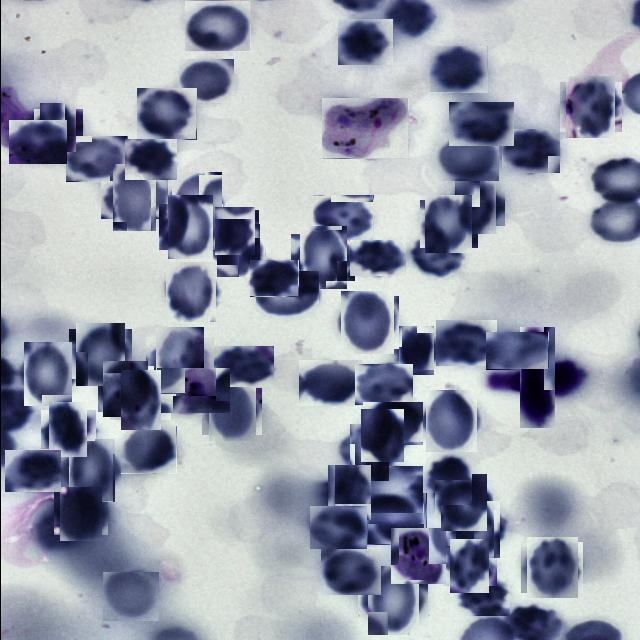leukocyte: (502, 342, 570, 412)
red blood cell: (362, 570, 422, 631), (184, 1, 250, 52), (337, 294, 395, 352), (150, 332, 208, 390), (422, 392, 480, 449), (364, 493, 426, 545), (19, 345, 75, 402), (71, 326, 128, 382), (162, 264, 218, 320), (523, 540, 579, 596), (562, 79, 618, 135), (294, 230, 350, 286), (168, 174, 224, 230), (106, 169, 162, 225), (136, 88, 196, 140), (162, 199, 218, 254), (434, 133, 498, 181), (64, 444, 118, 498), (360, 466, 422, 513), (298, 360, 361, 406), (255, 271, 318, 317), (320, 547, 380, 595), (312, 195, 373, 242), (205, 384, 258, 438), (448, 102, 513, 146), (65, 136, 127, 182), (435, 320, 496, 366), (101, 572, 158, 621), (429, 46, 487, 93), (451, 504, 503, 556), (437, 477, 489, 529), (422, 198, 474, 250), (120, 426, 176, 474), (362, 402, 423, 446), (501, 129, 560, 174), (210, 346, 273, 387), (8, 120, 66, 164), (100, 363, 150, 414), (337, 19, 392, 65), (450, 180, 500, 230), (114, 375, 164, 425), (309, 506, 366, 549), (324, 467, 373, 517), (484, 332, 548, 370), (178, 59, 233, 103), (354, 364, 412, 405), (4, 450, 60, 492), (356, 412, 406, 459), (56, 490, 104, 538), (344, 428, 392, 476), (213, 227, 261, 274), (408, 236, 463, 277), (456, 574, 509, 616), (44, 406, 91, 453), (446, 542, 492, 590), (426, 457, 471, 505), (124, 139, 176, 180), (349, 240, 405, 276), (212, 208, 256, 252), (394, 328, 437, 372), (36, 106, 79, 149), (249, 260, 298, 297)
trophozoite: (321, 98, 408, 159), (156, 368, 230, 414), (390, 528, 446, 584)
